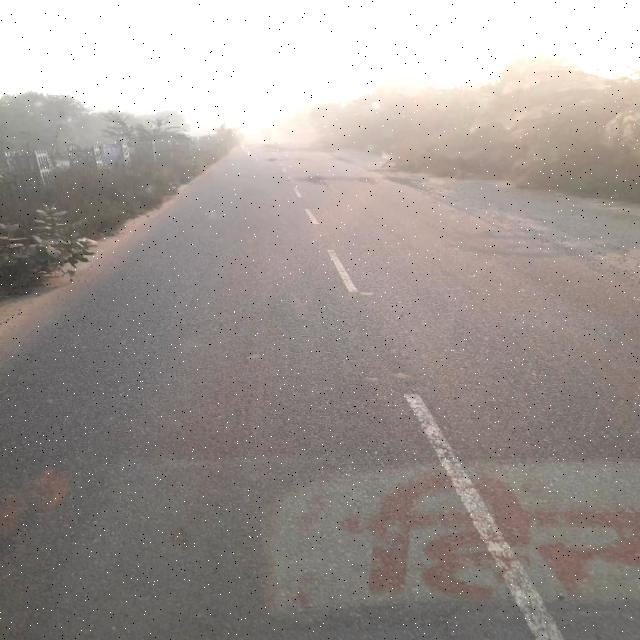D44: (402, 369, 546, 628)
